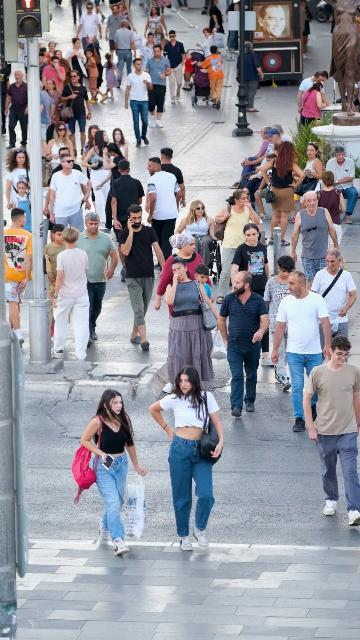person: (149, 365, 225, 552), (79, 389, 147, 556), (303, 335, 360, 527), (270, 271, 332, 433), (162, 256, 220, 396), (217, 270, 270, 418), (117, 204, 167, 351), (76, 212, 119, 347), (215, 189, 264, 306), (50, 227, 91, 363), (153, 234, 212, 323), (262, 255, 299, 393), (261, 140, 307, 247), (292, 190, 341, 290), (144, 157, 183, 270), (3, 207, 34, 349), (43, 153, 92, 242), (110, 160, 145, 282), (226, 127, 282, 203), (310, 248, 357, 337), (81, 130, 114, 228), (230, 223, 270, 299), (315, 171, 347, 266), (95, 142, 127, 235), (176, 200, 217, 269), (228, 126, 272, 190), (61, 70, 92, 159), (325, 146, 359, 227), (124, 57, 153, 148), (44, 224, 67, 338), (144, 43, 172, 132), (295, 142, 323, 213), (236, 42, 264, 113), (195, 45, 225, 109), (4, 70, 28, 149), (254, 154, 280, 226), (161, 30, 186, 103), (44, 121, 77, 172), (5, 148, 31, 211), (160, 148, 186, 209), (114, 20, 136, 86), (46, 147, 83, 186), (297, 71, 329, 115), (83, 49, 108, 103), (300, 82, 329, 128), (41, 80, 64, 134), (76, 3, 102, 49), (66, 37, 90, 84), (12, 181, 32, 234), (105, 4, 122, 64), (86, 33, 103, 87), (102, 53, 120, 100), (139, 33, 164, 64), (196, 27, 218, 59), (182, 52, 200, 91), (193, 263, 212, 299), (117, 1, 136, 35), (82, 125, 101, 158), (110, 128, 129, 160), (58, 50, 72, 93), (209, 0, 224, 33), (272, 124, 292, 142)
